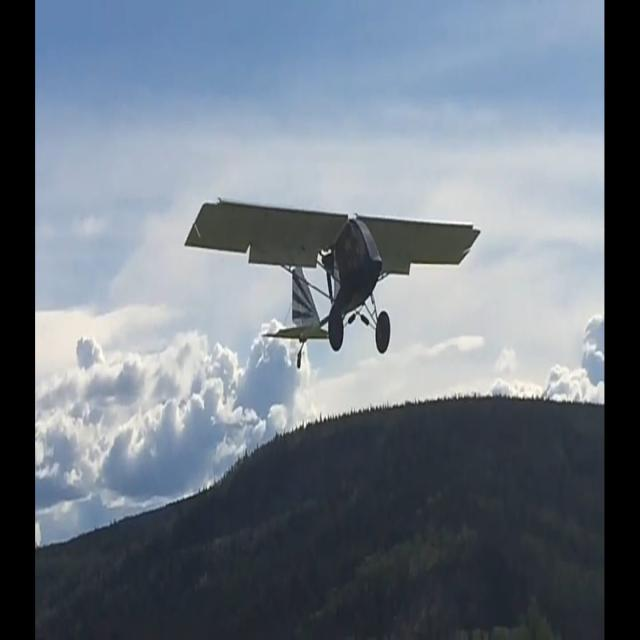iha: (177, 196, 475, 372)
